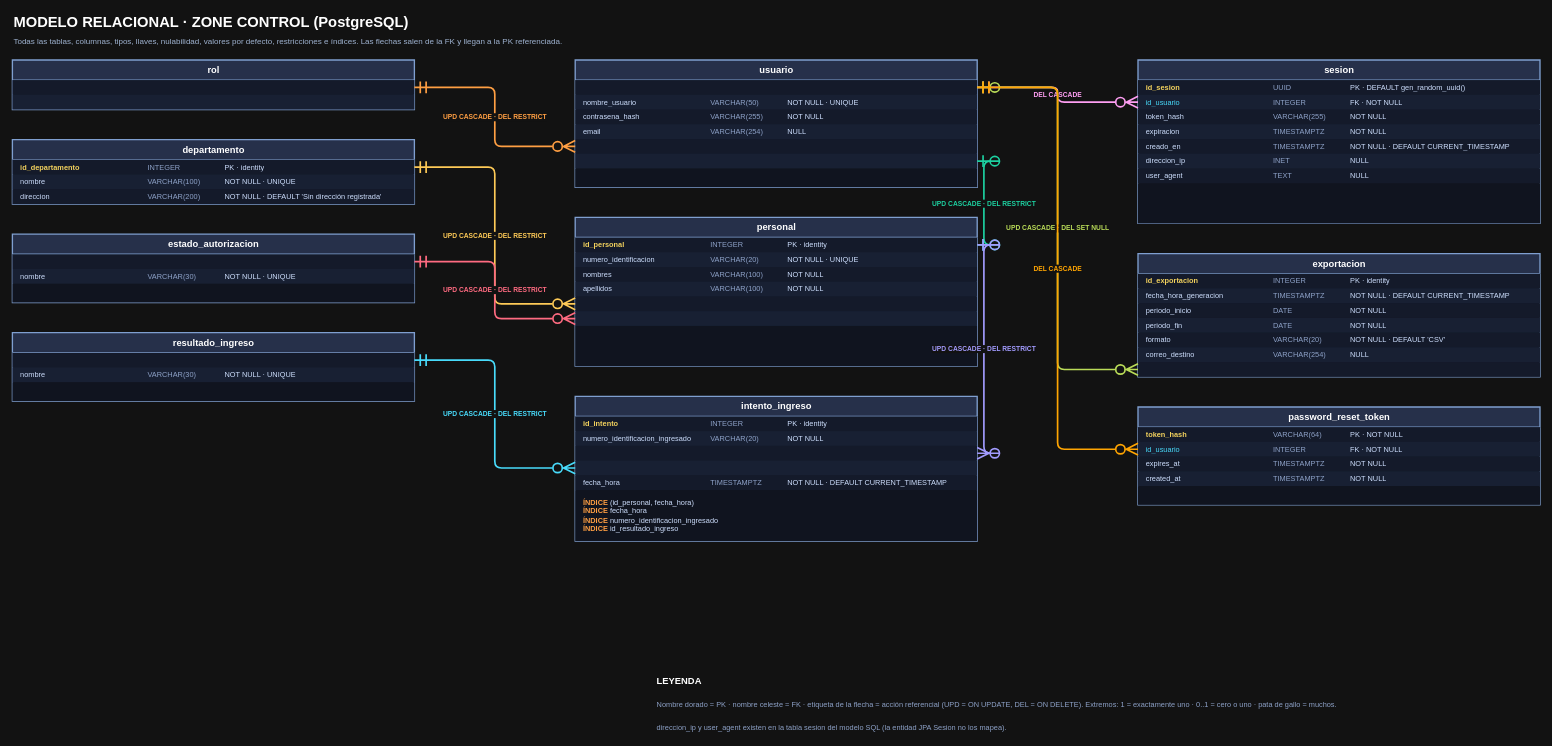
Image size: 1552x746. Some labels were removed from this diagram. The shapes that lost their labels are listed below. From the top down, each one's centre as x and y in pixels, then its label:
At point (213, 87): "id_rol INTEGER PK · identity".
At point (213, 101): "nombre VARCHAR(50) NOT NULL · UNIQUE".
At point (776, 87): "id_usuario INTEGER PK · identity".
At point (776, 146): "id_rol INTEGER FK · NOT NULL".
At point (776, 160): "id_personal INTEGER FK · UNIQUE · NULL".
At point (776, 177): "ÍNDICE ÚNICO PARCIAL LOWER(email) WHERE email IS NOT NULL".
At point (1339, 203): "ÍNDICE token_hash ÍNDICE id_usuario ÍNDICE expiracion".
At point (213, 261): "id_estado_autorizacion INTEGER PK · identity".
At point (213, 292): "CHECK nombre IN ('Otorgada', 'Revocada', 'Suspendida')".
At point (776, 303): "id_departamento INTEGER FK · NOT NULL".
At point (776, 318): "id_estado_autorizacion INTEGER FK · NOT NULL".
At point (213, 359): "id_resultado_ingreso INTEGER PK · identity".
At point (776, 346): "ÍNDICE (apellidos, nombres) ÍNDICE id_departamento ÍNDICE id_estado_autorizacion".
At point (1339, 369): "id_usuario INTEGER FK · NULL".
At point (213, 391): "CHECK nombre IN ('Autorizado', 'Denegado', 'No registrado')".
At point (776, 453): "id_personal INTEGER FK · NULL".
At point (776, 467): "id_resultado_ingreso INTEGER FK · NOT NULL".
At point (1339, 495): "ÍNDICE expires_at".
